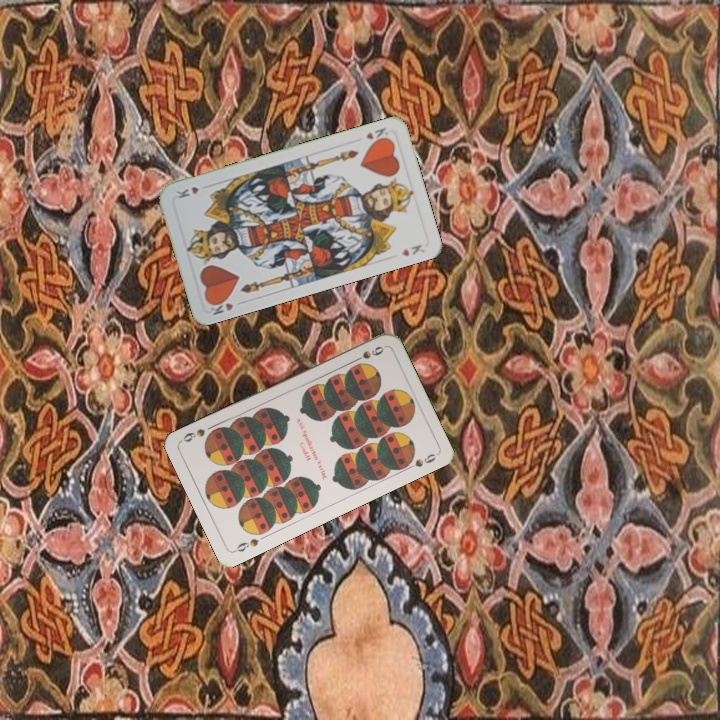HK: (204, 294, 246, 318), (361, 123, 392, 146)
S9: (348, 342, 386, 365), (230, 534, 261, 555)
